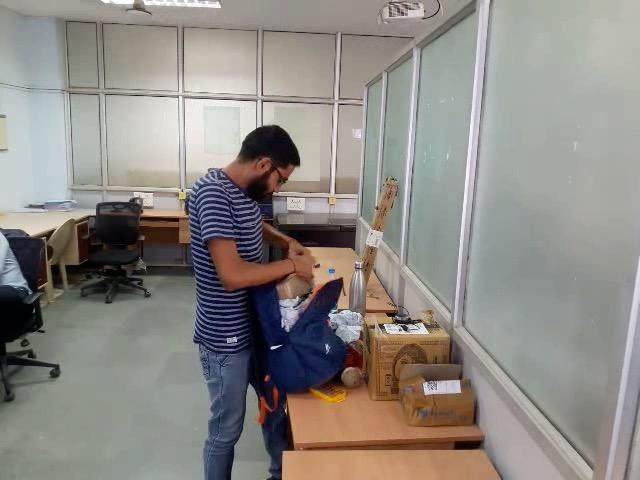shoplifting: (186, 248, 413, 368)
